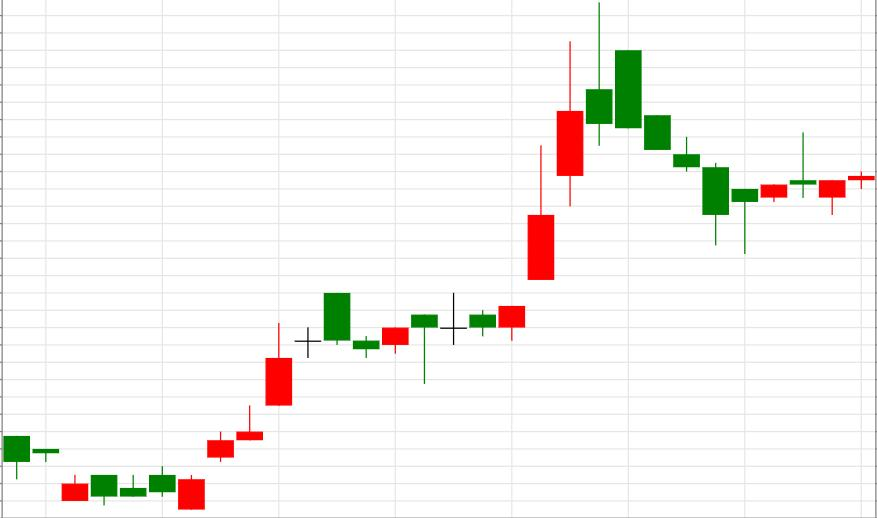shooting_star_fall: (440, 2, 613, 345)
